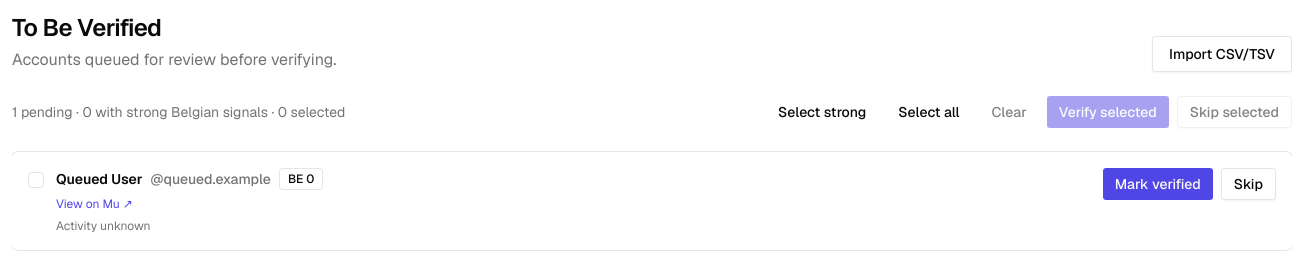
Scenario: BacklogPage › actually verifies via /api/verify, refreshes the count, and removes the card on Mark verified
Expected: the text "queued.example" is shown, [163,170,271,188]
Click the button "Mark verified": [1158, 184] box [1103,168,1213,200]
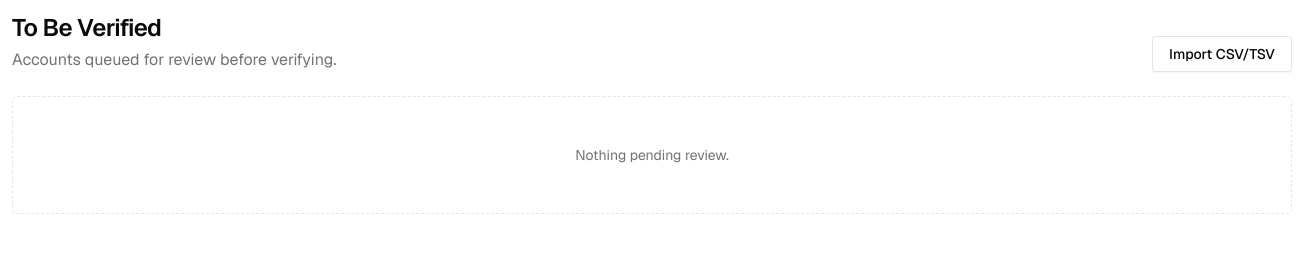
Result: the text "queued.example" is gone
